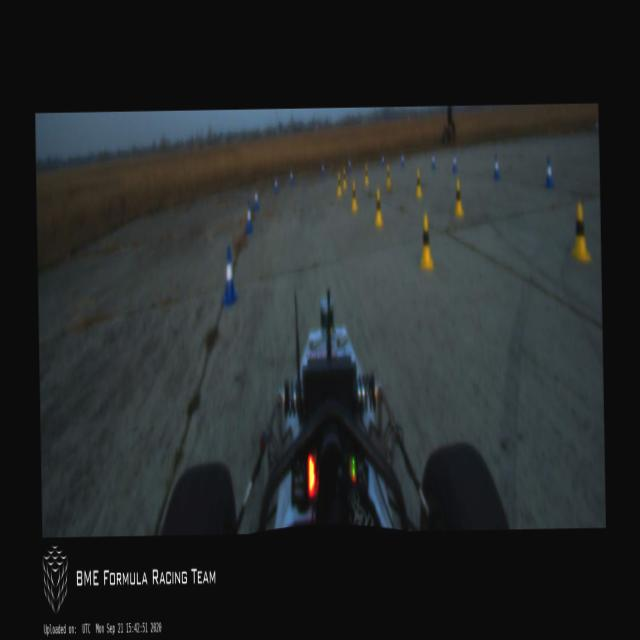blue_cone: (221, 245, 237, 304), (544, 158, 554, 188), (245, 202, 252, 232), (492, 156, 500, 178), (452, 150, 458, 172), (430, 151, 436, 170), (253, 188, 258, 210), (274, 176, 278, 193), (400, 150, 404, 166), (348, 156, 351, 171), (381, 153, 384, 166), (322, 162, 324, 176), (290, 170, 292, 183)
yellow_cone: (570, 202, 591, 261), (418, 212, 434, 270), (454, 178, 464, 216), (374, 190, 383, 227), (350, 181, 358, 212), (415, 168, 422, 198), (385, 164, 391, 189), (336, 172, 342, 196), (342, 168, 347, 189), (364, 164, 368, 186)
